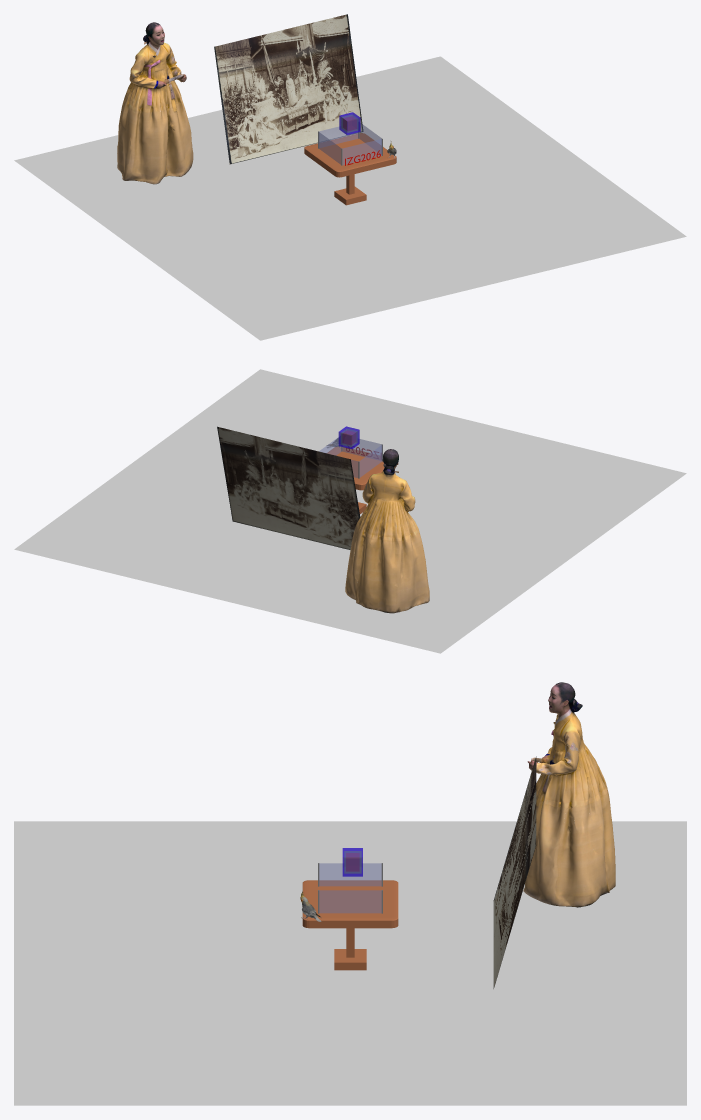
File: izg2026.glb
3 views of the same model, one above another, from view 1: azimuth 30°, elevation 25°; view 2: azimuth 150°, elevation 25°; view 3: azimuth 270°, elevation 25° (orthographic). The views are drawn at different scales.
Visible parts, largest first — view 1: Plane, Plane.004, Frame_2000_0.001, ground, glass; view 2: Plane, Plane.004, Frame_2000_0.001, glass, ground; view 3: Plane, Frame_2000_0.001, ground, Plane.004, glass, ground.001.
Part boxes in pixels (box(x1,y1,x2,y2)): Plane: box(14, 56, 686, 340); Plane.004: box(214, 14, 363, 164); Frame_2000_0.001: box(117, 22, 193, 184); ground: box(304, 133, 396, 177); glass: box(318, 123, 381, 164); Plane: box(14, 369, 686, 653); Plane.004: box(217, 426, 360, 549); Frame_2000_0.001: box(345, 449, 429, 613); glass: box(319, 437, 382, 477); ground: box(327, 446, 396, 490); Plane: box(14, 821, 686, 1105); Frame_2000_0.001: box(523, 682, 615, 907); ground: box(302, 880, 398, 928); Plane.004: box(493, 756, 536, 988); glass: box(319, 863, 381, 913); ground.001: box(334, 949, 366, 970).
Bounding box in the file's own units: 164 × 55.36 × 164.
Materials: 10 (3 with a texture image).
